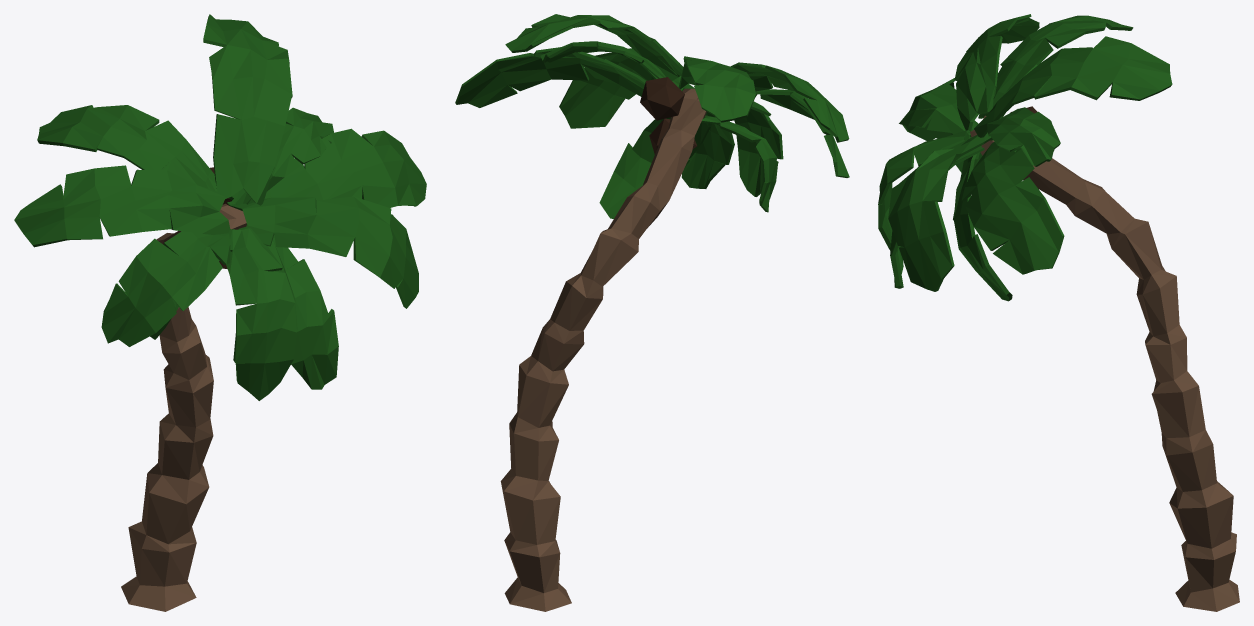
Rendered from palm_tree_3.glb.
3 renders of one model, left to right at view 1: azimuth 30°, elevation 25°; view 2: azimuth 150°, elevation 25°; view 3: azimuth 270°, elevation 25°, orthographic. The views are drawn at different scales.
Parts seen in each view (by area): view 1: palm_tree_3_leaves, palm_tree_3_trunk; view 2: palm_tree_3_leaves, palm_tree_3_trunk, palm_tree_3_coconuts; view 3: palm_tree_3_leaves, palm_tree_3_trunk.
Part boxes in pixels (x1,y1,x2,y2): palm_tree_3_leaves: (14, 14, 426, 400); palm_tree_3_trunk: (121, 203, 246, 611); palm_tree_3_leaves: (455, 14, 849, 218); palm_tree_3_trunk: (500, 88, 706, 611); palm_tree_3_coconuts: (640, 77, 696, 154); palm_tree_3_leaves: (878, 14, 1172, 301); palm_tree_3_trunk: (970, 115, 1239, 611).
Bounding box in the file's own units: 3.12 × 4.33 × 2.55.
